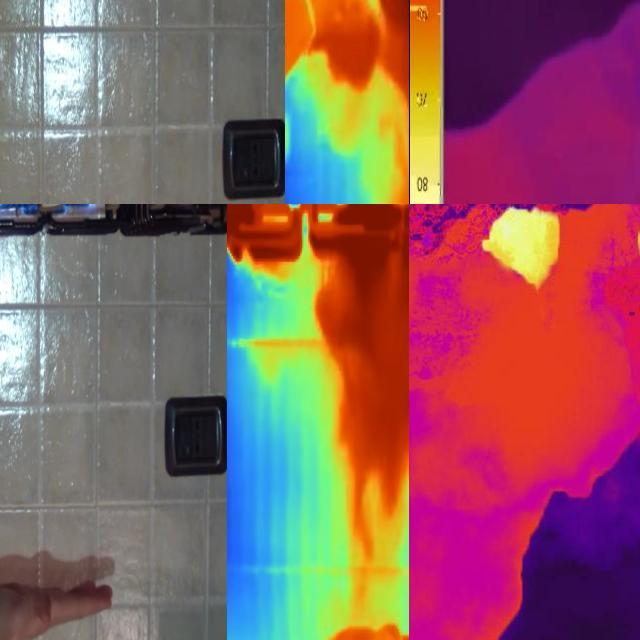fire: (310, 206, 413, 462), (289, 1, 410, 98), (477, 202, 569, 296), (230, 205, 308, 276)
